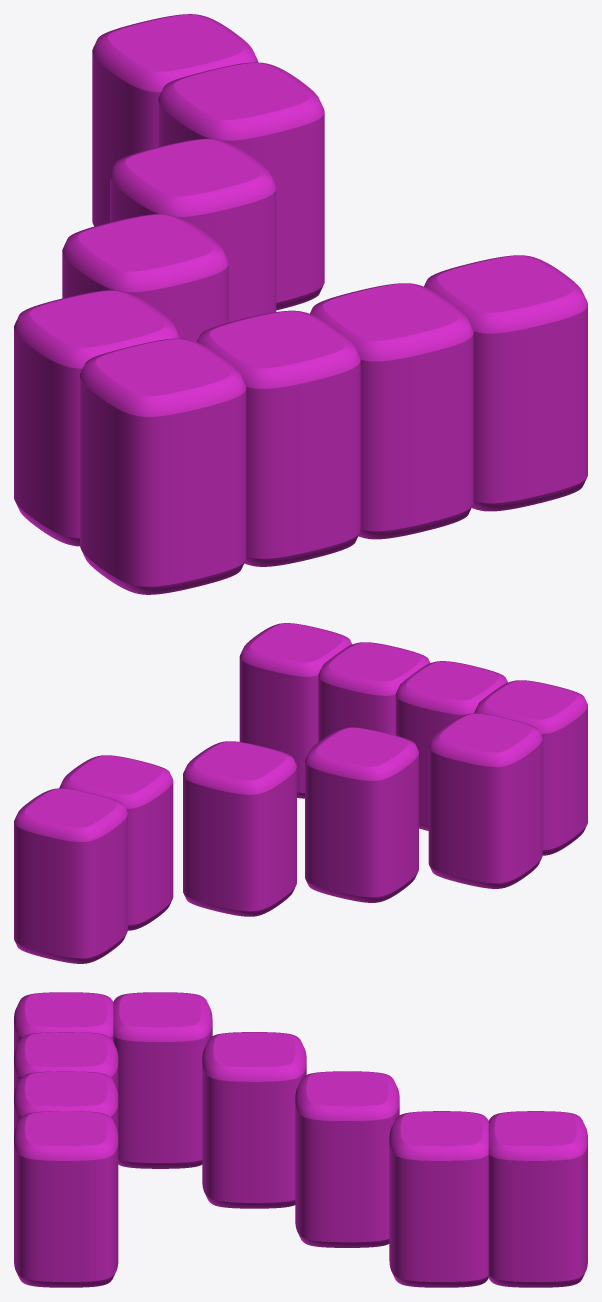
The model's file is Number_7.fbx.
The picture shows the model from 3 angles, top to bottom: view 1: azimuth 30°, elevation 25°; view 2: azimuth 150°, elevation 25°; view 3: azimuth 270°, elevation 25°; orthographic projection. The views are drawn at different scales.
Visible parts, largest first — view 1: Number_7; view 2: Number_7; view 3: Number_7.
Boxes of the visible parts, <box> form: Number_7: <box>14,14,587,594</box>; Number_7: <box>14,623,587,963</box>; Number_7: <box>14,992,587,1287</box>.
Size of the model in its own units: 0.3465 by 0.14 by 0.5157.
